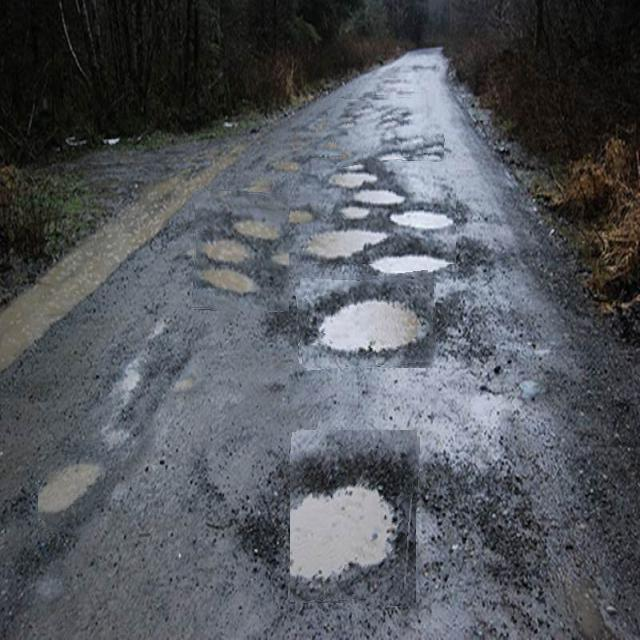Pothole: (290, 430, 418, 605), (300, 158, 456, 264), (298, 274, 436, 368), (192, 191, 289, 311), (330, 94, 444, 162), (39, 452, 104, 536)
